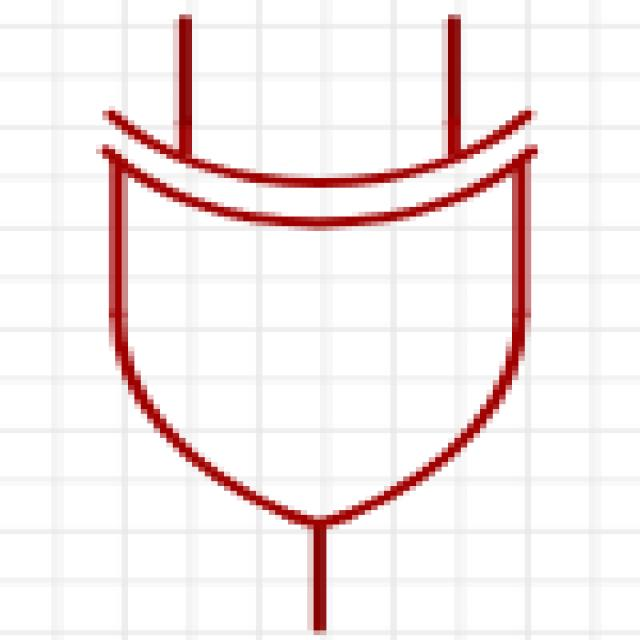xor: (83, 9, 563, 640)
